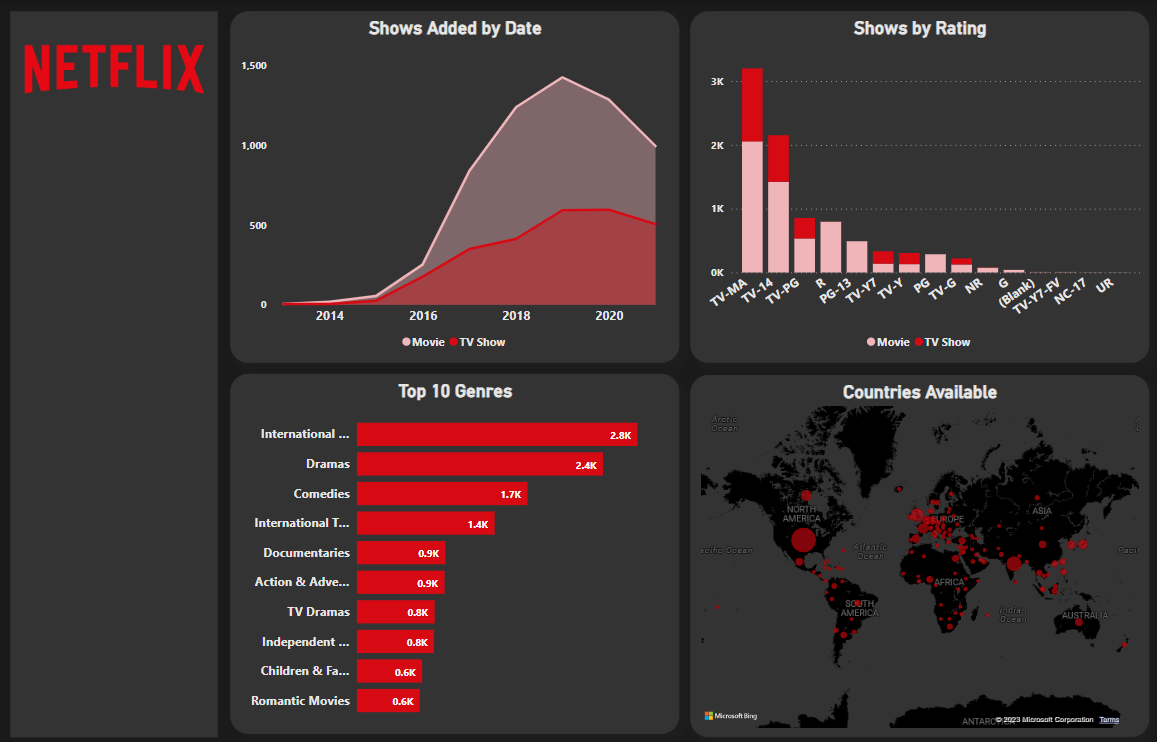

Layout of this report page (visuals, bound fields, positions):
{"tool":"powerbi","page":{"name":"Overview","canvas":[1400,900],"ordinal":0},"visuals":[{"type":"shape","box":[13.6,13.6,250.3,875.9],"z":0},{"type":"areaChart","title":"Shows Added by Date","fields":{"Y":["CountNonNull(netflix_data titles.show_id)"],"Category":["netflix_data titles.date_added.Variation.Date Hierarchy.Year"],"Series":["netflix_data titles.type"]},"box":[278.9,13.6,541.2,423.6],"z":1000},{"type":"clusteredBarChart","title":"Top 10 Genres","fields":{"Category":["netflix_data netflix_listed_in.category"],"Y":["CountNonNull(netflix_data netflix_listed_in.show_id)"]},"box":[278.9,450.8,541.2,434.2],"z":2000},{"type":"columnChart","title":"Shows by Rating","fields":{"Category":["netflix_data titles.rating"],"Y":["CountNonNull(netflix_data titles.show_id)"],"Series":["netflix_data titles.type"]},"box":[833.7,13.6,553.3,423.6],"z":3000},{"type":"map","title":"Countries Available","fields":{"Category":["netflix_data countries_released.country"],"Size":["CountNonNull(netflix_data countries_released.show_id)"]},"box":[833.7,452.3,553.3,437.2],"z":4000},{"type":"image","box":[0,0,278.9,159.8],"z":5000}]}

Visuals, with their boxes in screenshot pixels (x1, y1, x2, y2), scaled from the page's 1400x900 canvas onto the 1157x742 screenshot:
shape: bbox(11, 11, 218, 733)
"Shows Added by Date" areaChart: bbox(230, 11, 678, 360)
"Top 10 Genres" clusteredBarChart: bbox(230, 372, 678, 730)
"Shows by Rating" columnChart: bbox(689, 11, 1146, 360)
"Countries Available" map: bbox(689, 373, 1146, 733)
image: bbox(0, 0, 230, 132)
